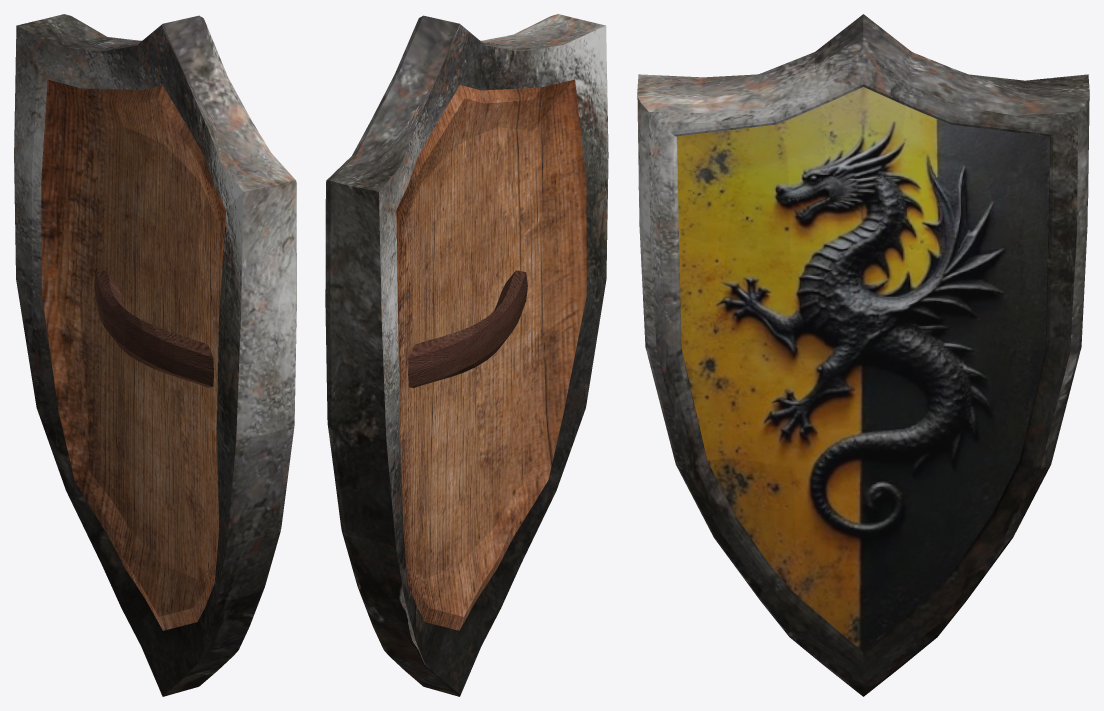
File: escudo.glb
3 views of the same model, side by side, from view 1: azimuth 30°, elevation 25°; view 2: azimuth 150°, elevation 25°; view 3: azimuth 270°, elevation 25° (orthographic).
Visible parts, largest first — view 1: Cube, Plane; view 2: Cube, Plane; view 3: Cube.
Boxes of the visible parts, x1,y1,x2,y2 form: Cube: (14,14,296,696); Plane: (94,270,213,387); Cube: (325,14,608,696); Plane: (408,270,527,387); Cube: (637,14,1089,696).
Size of the model in its own units: 0.1122 by 0.8707 by 0.5353.
Materials: 4 (4 with a texture image).
